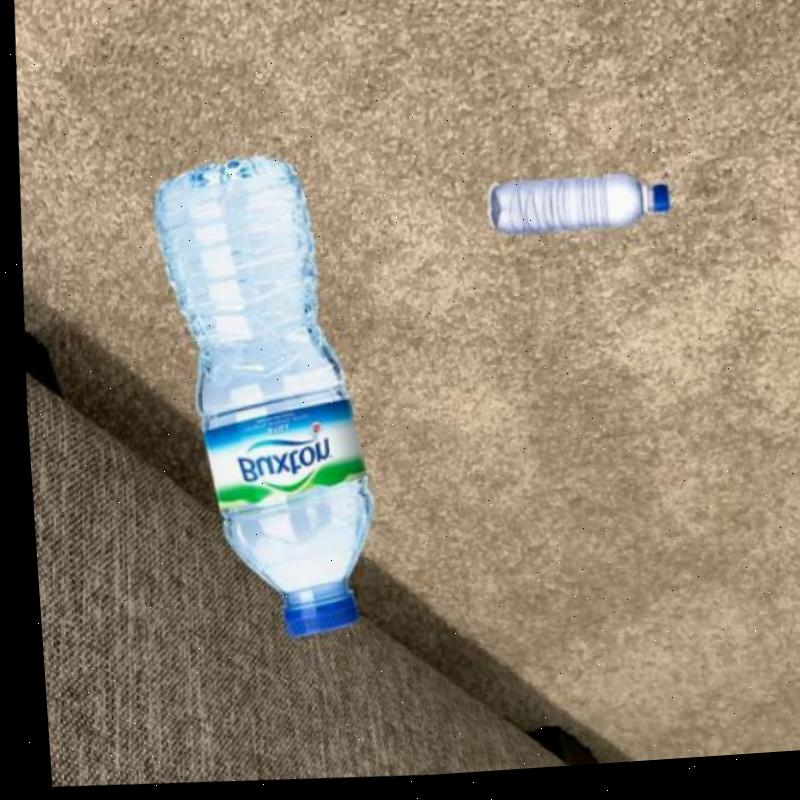botella: (135, 153, 384, 653), (480, 171, 668, 251)
